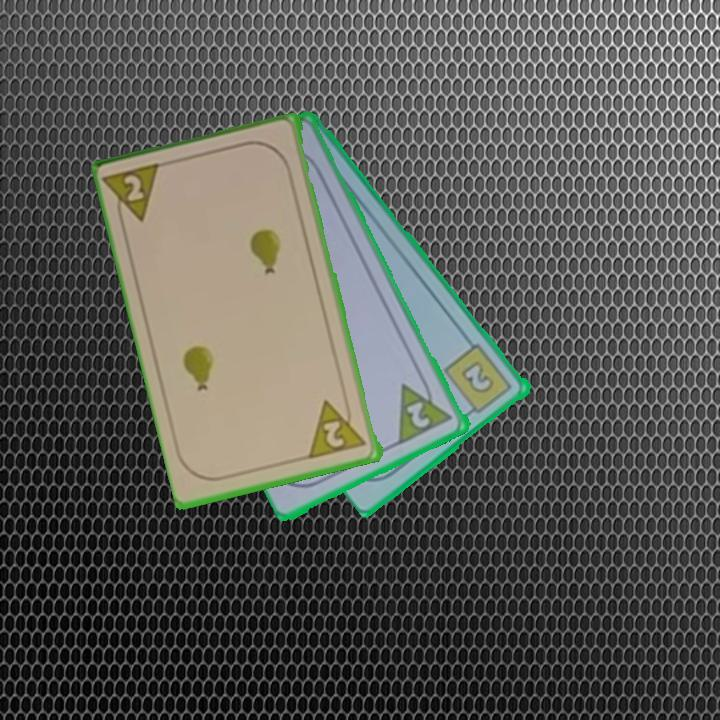2b: (441, 340, 516, 420)
2p: (395, 371, 457, 448), (103, 159, 167, 231), (307, 393, 370, 462)
